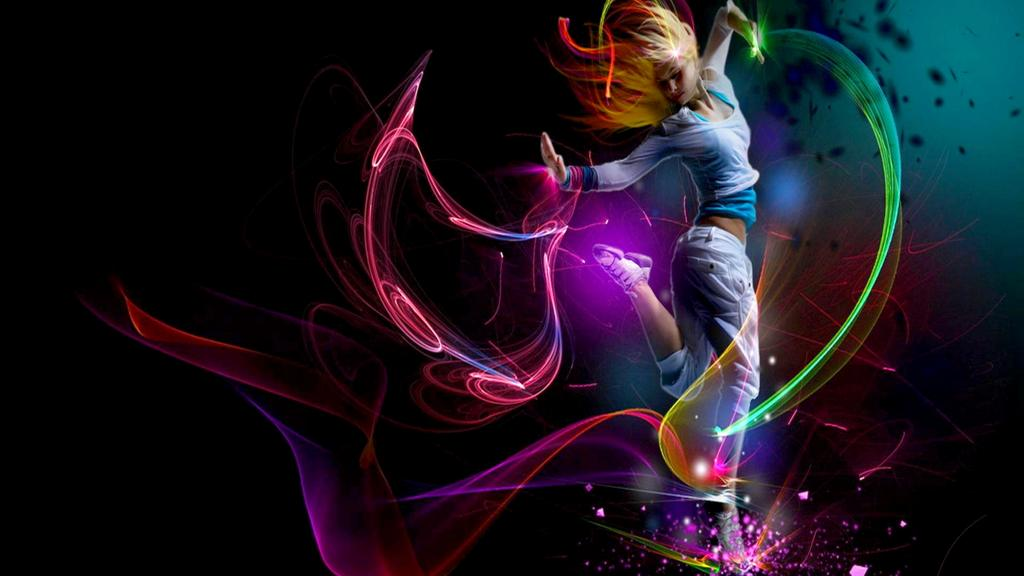face: (652, 55, 698, 106)
